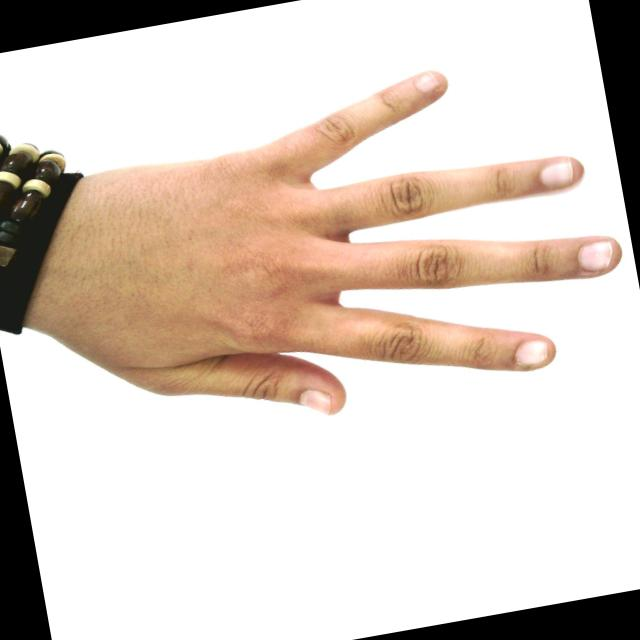Nail: (577, 239, 613, 270), (539, 158, 573, 187), (515, 338, 549, 364), (299, 388, 331, 413), (415, 70, 439, 91)
